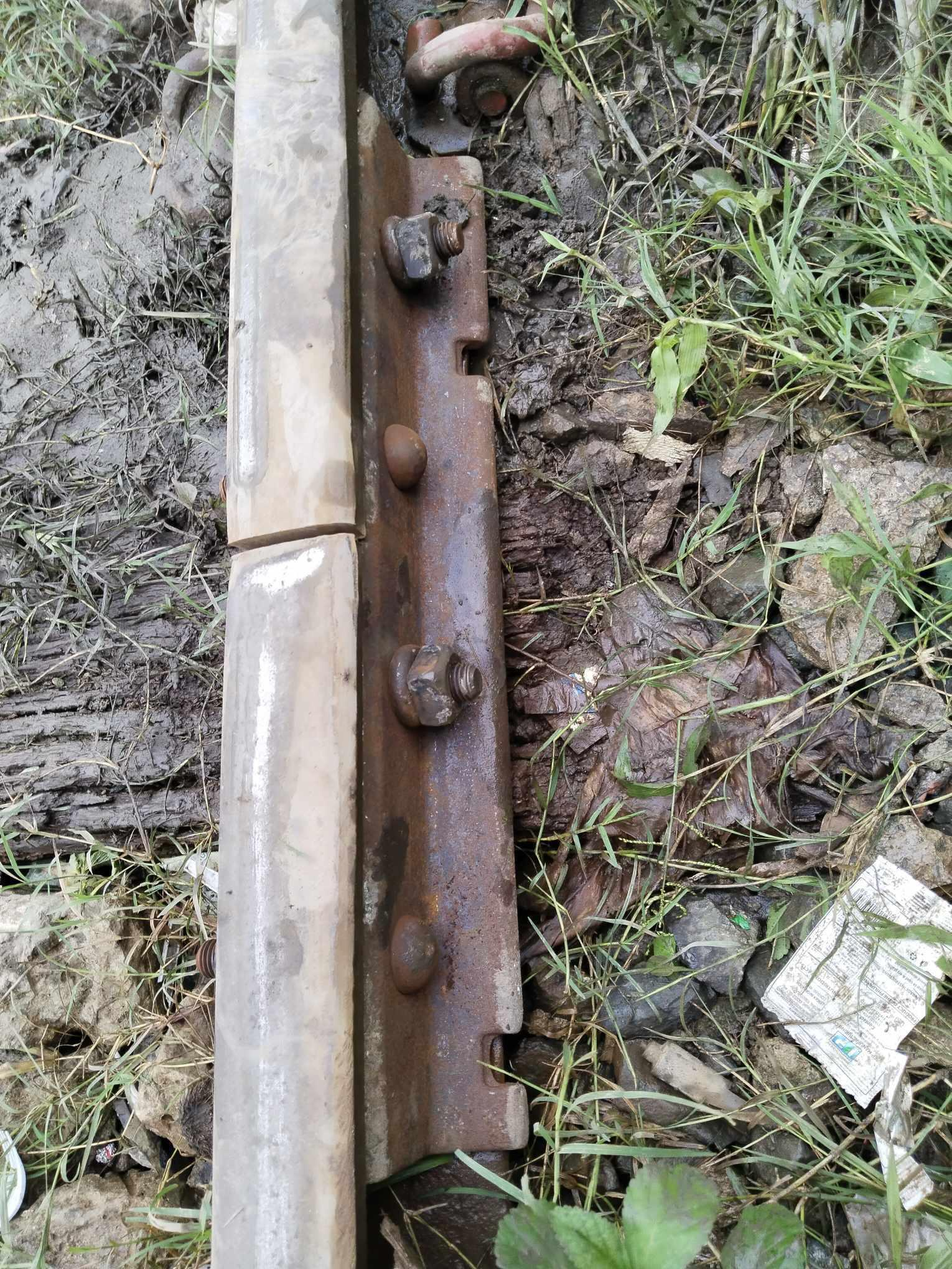railway-gap: (96, 394, 461, 689)
